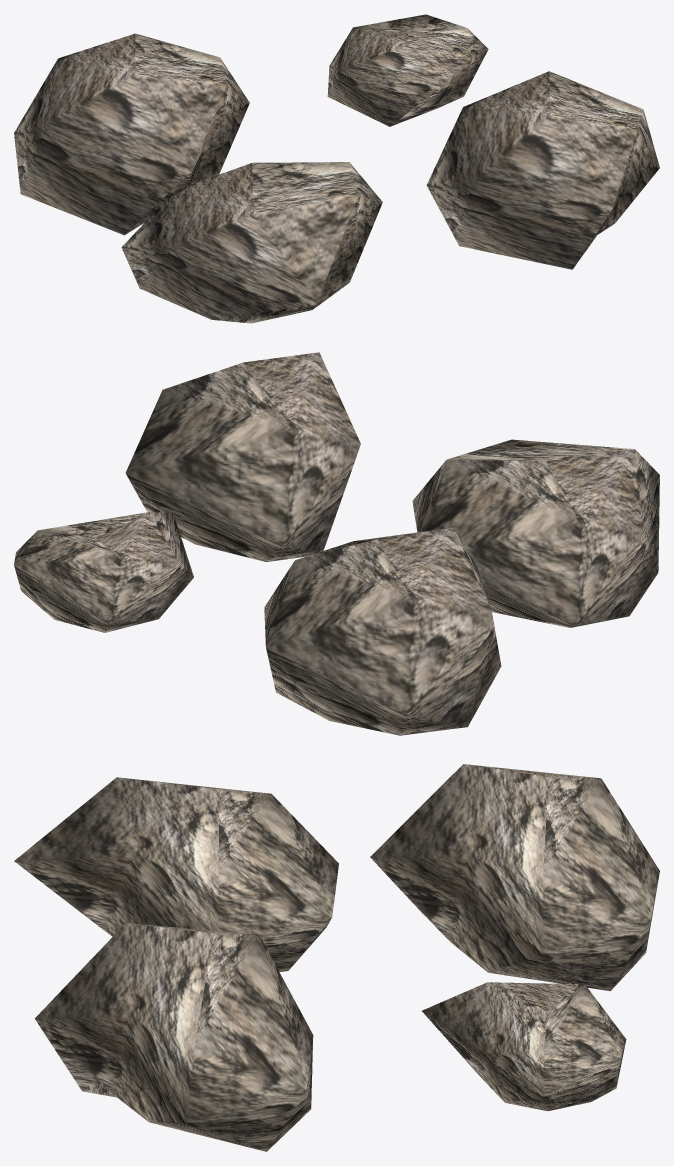
File: Meteorites.FBX
3 views of the same model, one above another, from view 1: azimuth 30°, elevation 25°; view 2: azimuth 150°, elevation 25°; view 3: azimuth 270°, elevation 25° (orthographic). The views are drawn at different scales.
Parts seen in each view (by area): view 1: GeoSphere003, GeoSphere005, GeoSphere006, GeoSphere004; view 2: GeoSphere003, GeoSphere005, GeoSphere006, GeoSphere004; view 3: GeoSphere003, GeoSphere005, GeoSphere006, GeoSphere004.
Boxes of the visible parts, x1=… form: GeoSphere003: x1=14, y1=33, x2=249, y2=235; GeoSphere005: x1=426, y1=71, x2=659, y2=269; GeoSphere006: x1=121, y1=162, x2=382, y2=323; GeoSphere004: x1=327, y1=14, x2=488, y2=126; GeoSphere003: x1=264, y1=527, x2=501, y2=735; GeoSphere005: x1=125, y1=352, x2=360, y2=561; GeoSphere006: x1=412, y1=439, x2=659, y2=627; GeoSphere004: x1=14, y1=512, x2=193, y2=632; GeoSphere003: x1=370, y1=764, x2=659, y2=991; GeoSphere005: x1=34, y1=923, x2=313, y2=1151; GeoSphere006: x1=14, y1=777, x2=338, y2=971; GeoSphere004: x1=422, y1=982, x2=626, y2=1111.
Bounding box in the file's own units: 143 × 44.67 × 139.
Materials: 1 (1 with a texture image).
